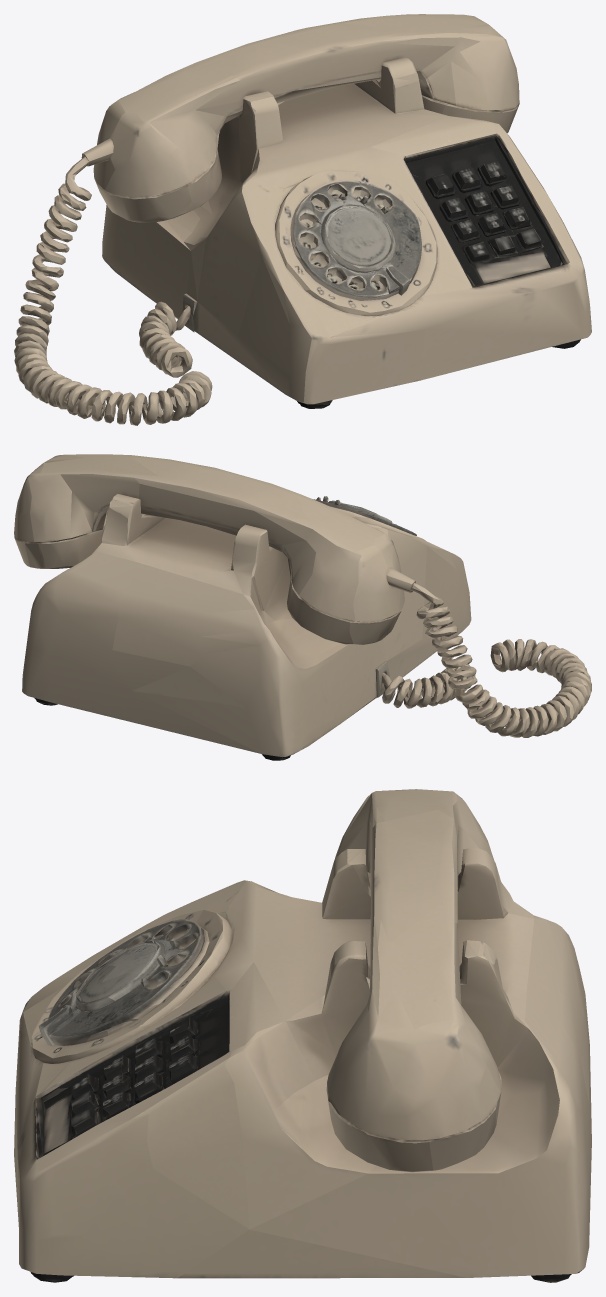
The model's file is Meshy_AI_Điện_thoại_bàn_1006174407_texture.fbx.
The picture shows the model from 3 angles, top to bottom: view 1: azimuth 30°, elevation 25°; view 2: azimuth 150°, elevation 25°; view 3: azimuth 270°, elevation 25°; orthographic projection. The views are drawn at different scales.
Visible parts, largest first — view 1: output_unwrapped; view 2: output_unwrapped; view 3: output_unwrapped.
Boxes of the visible parts, left/top/right/bottom form: output_unwrapped: left=14, top=14, right=591, bottom=425; output_unwrapped: left=14, top=454, right=591, bottom=760; output_unwrapped: left=14, top=789, right=591, bottom=1282.
Size of the model in its own units: 190 by 79.32 by 129.
1 material, 1 textured.
